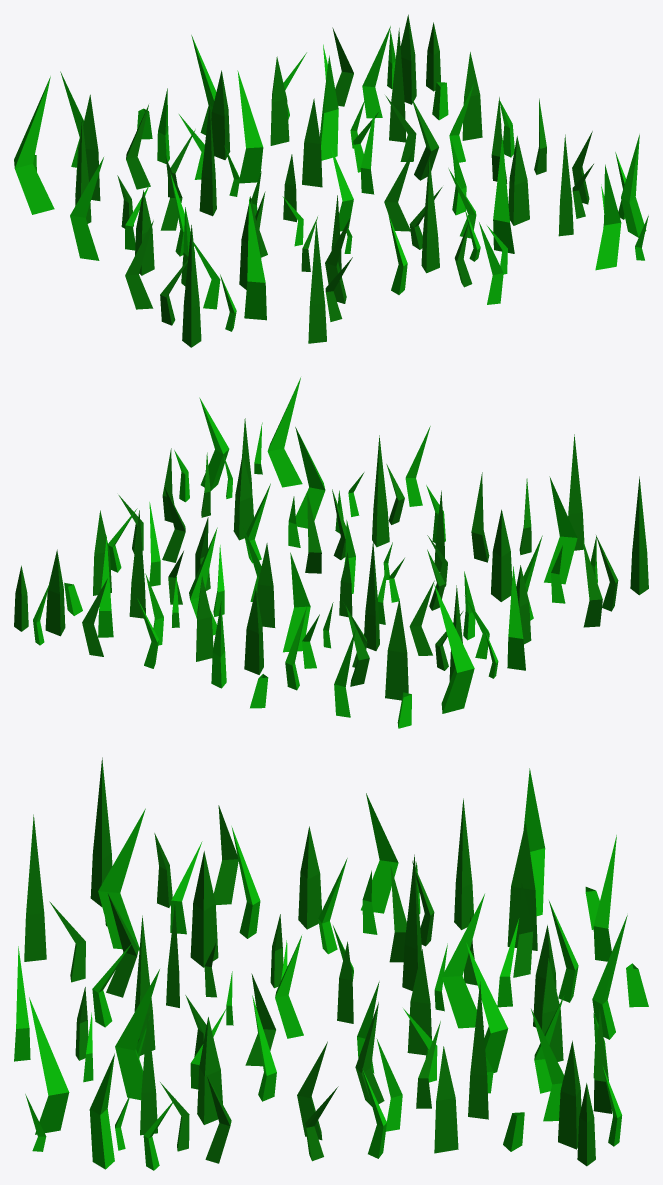
The model's file is Grass2.fbx.
3 renders of one model, top to bottom at view 1: azimuth 30°, elevation 25°; view 2: azimuth 150°, elevation 25°; view 3: azimuth 270°, elevation 25°, orthographic. The views are drawn at different scales.
Parts seen in each view (by area): view 1: Grass2; view 2: Grass2; view 3: Grass2.
Boxes of the visible parts, left/top/right/bottom form: Grass2: left=14, top=14, right=648, bottom=347; Grass2: left=14, top=377, right=648, bottom=728; Grass2: left=14, top=757, right=648, bottom=1170.
Bounding box in the file's own units: 87.04 × 22.7 × 84.09.
